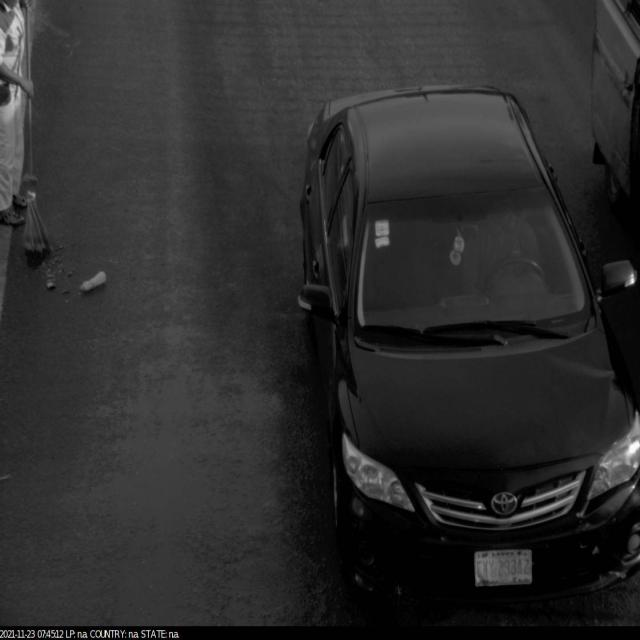windshield: (338, 180, 600, 362)
